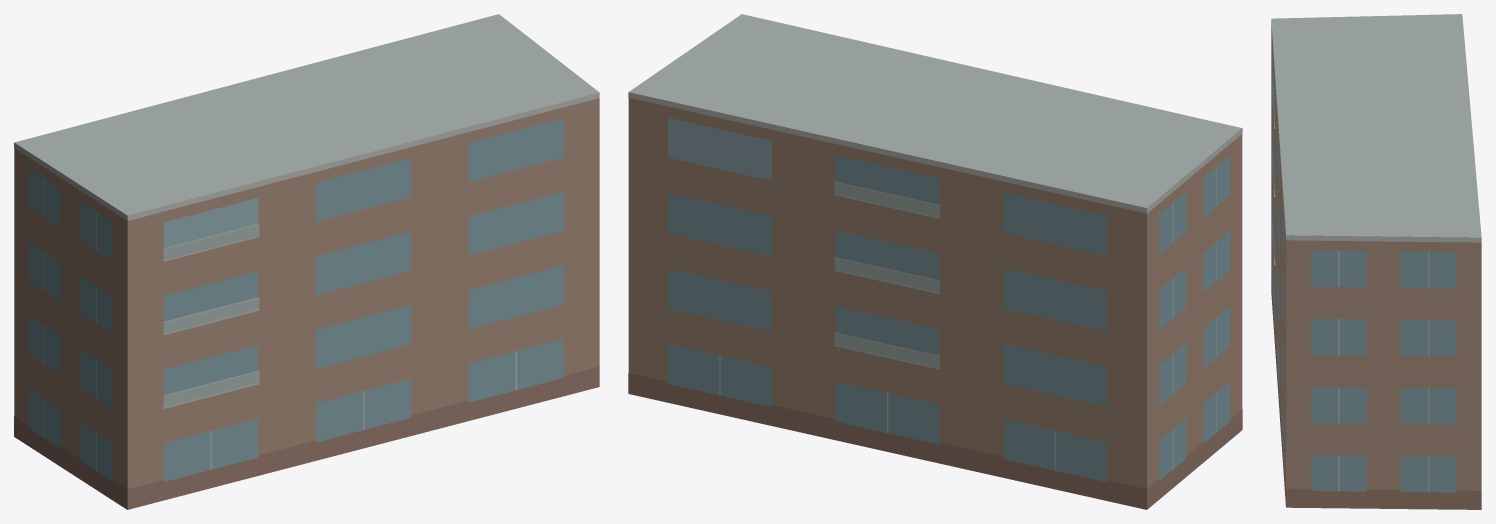
Rendered from survey-upis-32755462.glb.
3 views of the same model, side by side, from view 1: azimuth 30°, elevation 25°; view 2: azimuth 150°, elevation 25°; view 3: azimuth 270°, elevation 25° (orthographic). The views are drawn at different scales.
Visible parts, largest first — view 1: survey-upis-32755462.tmp; view 2: survey-upis-32755462.tmp; view 3: survey-upis-32755462.tmp.
Boxes of the visible parts, x1,y1,x2,y2 form: survey-upis-32755462.tmp: (14,14,599,509); survey-upis-32755462.tmp: (628,14,1242,509); survey-upis-32755462.tmp: (1271,14,1481,509).
Size of the model in its own units: 23.43 by 13.3 by 9.32.
